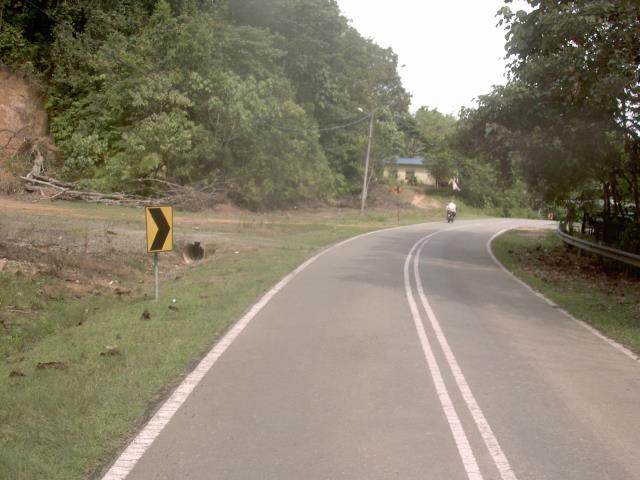traffic_sign: (136, 199, 181, 261)
